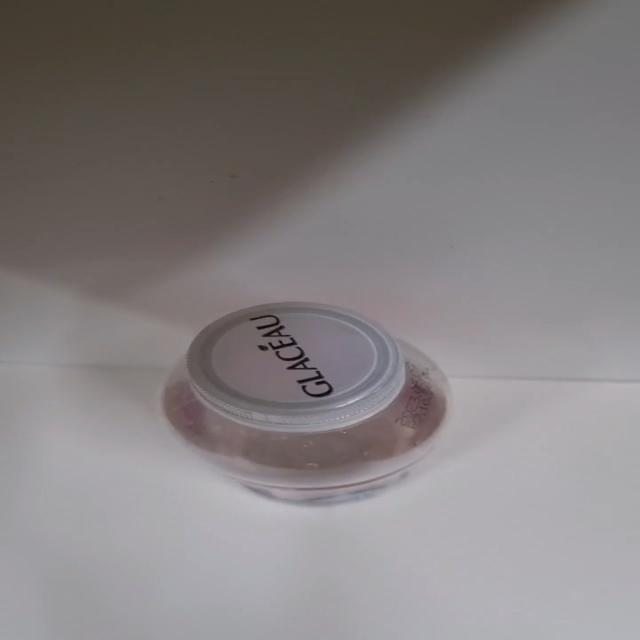Plastic: (159, 302, 453, 506)
